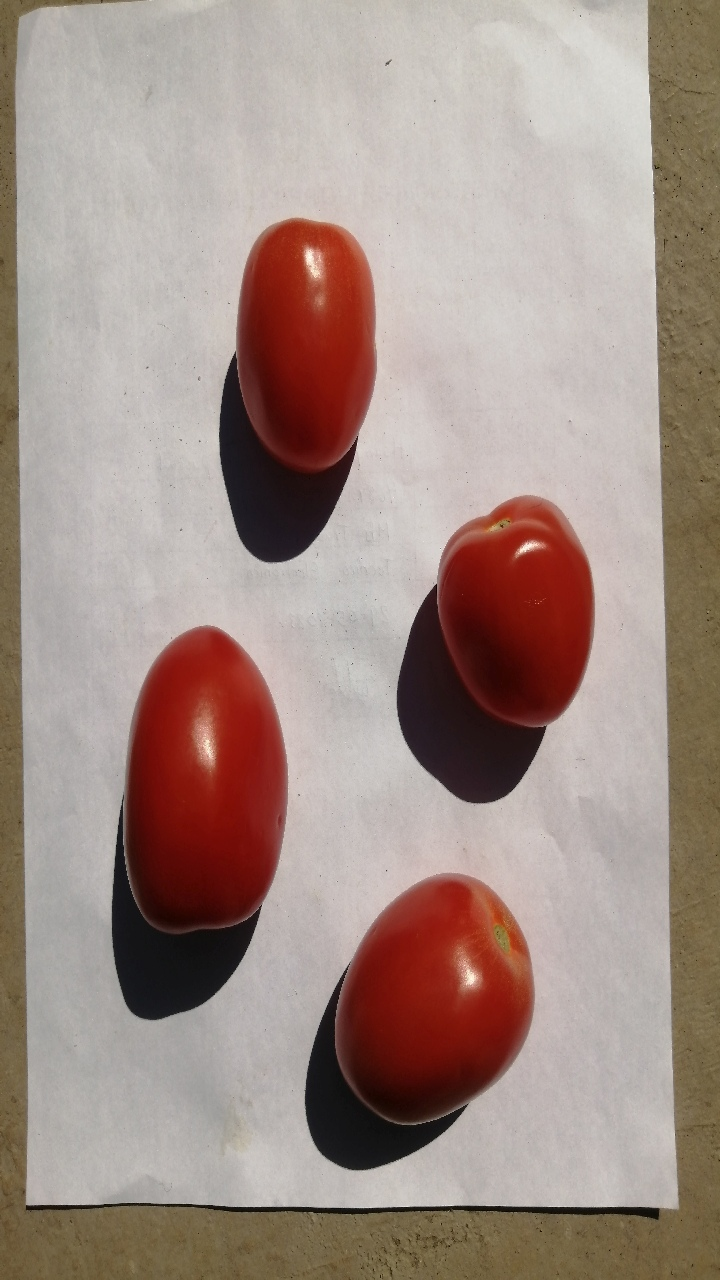tomateRojo: (304, 855, 564, 1154), (103, 619, 300, 939), (209, 192, 403, 488), (404, 486, 624, 739)
